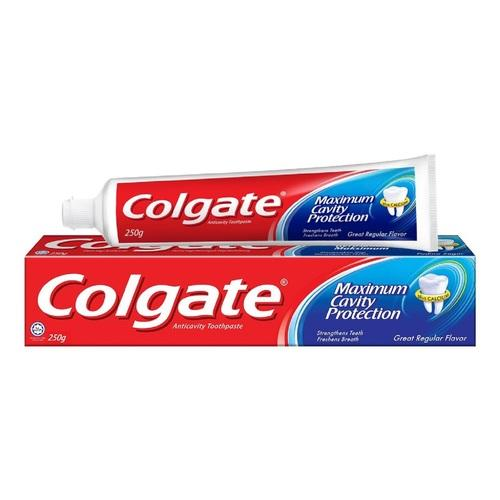toothpaste: (22, 231, 482, 349), (56, 148, 454, 259)
